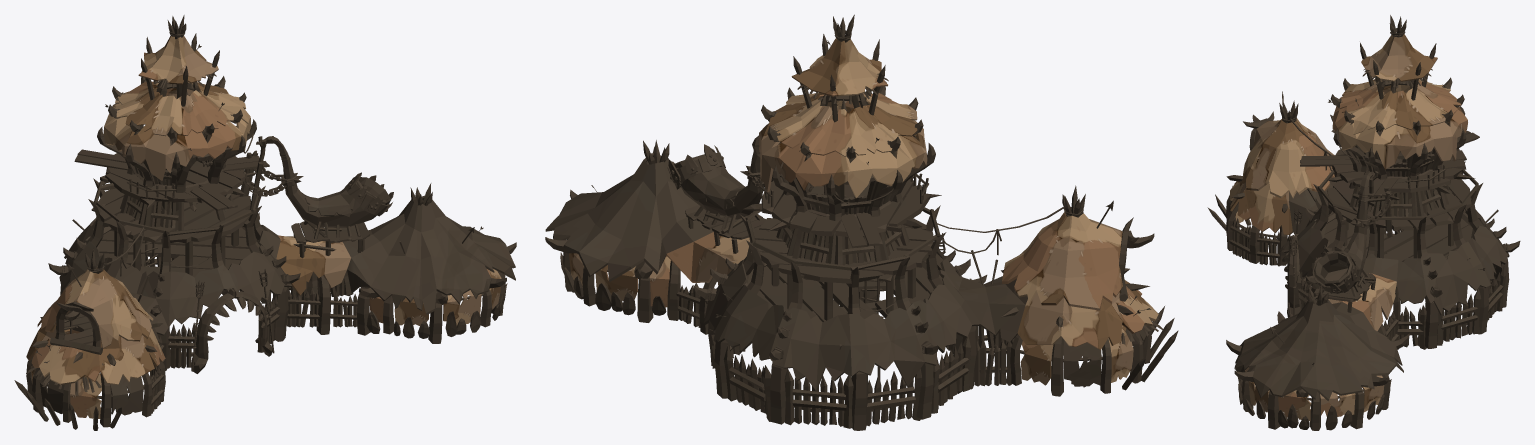
The model's file is bog_hq.gltf.
3 renders of one model, left to right at view 1: azimuth 30°, elevation 25°; view 2: azimuth 150°, elevation 25°; view 3: azimuth 270°, elevation 25°, orthographic. The views are drawn at different scales.
Visible parts, largest first — view 1: bog_hq; view 2: bog_hq; view 3: bog_hq.
Part boxes in pixels (x1,y1,x2,y2): bog_hq: [14, 15, 516, 430]; bog_hq: [545, 14, 1178, 430]; bog_hq: [1207, 15, 1520, 430].
Size of the model in its own units: 22.2 by 13.35 by 12.73.
2 materials, 2 textured.
